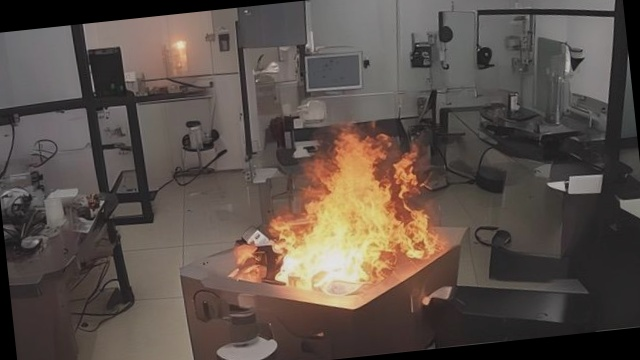fire: (229, 116, 460, 309)
